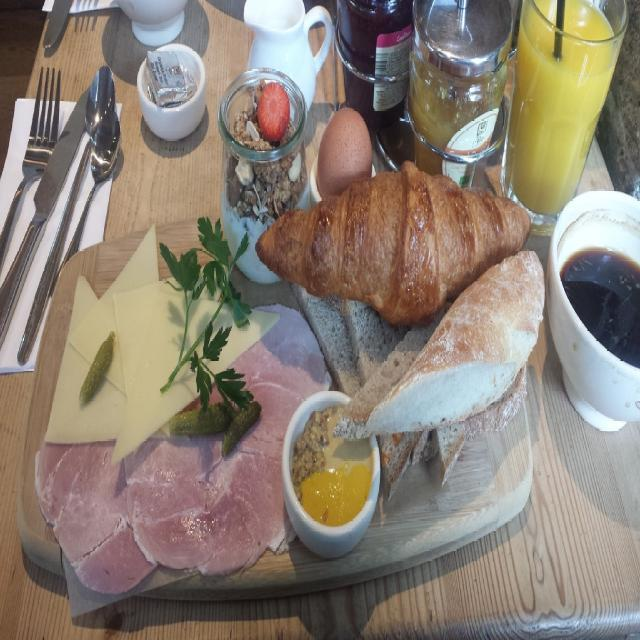Croissant: (263, 155, 533, 326)
